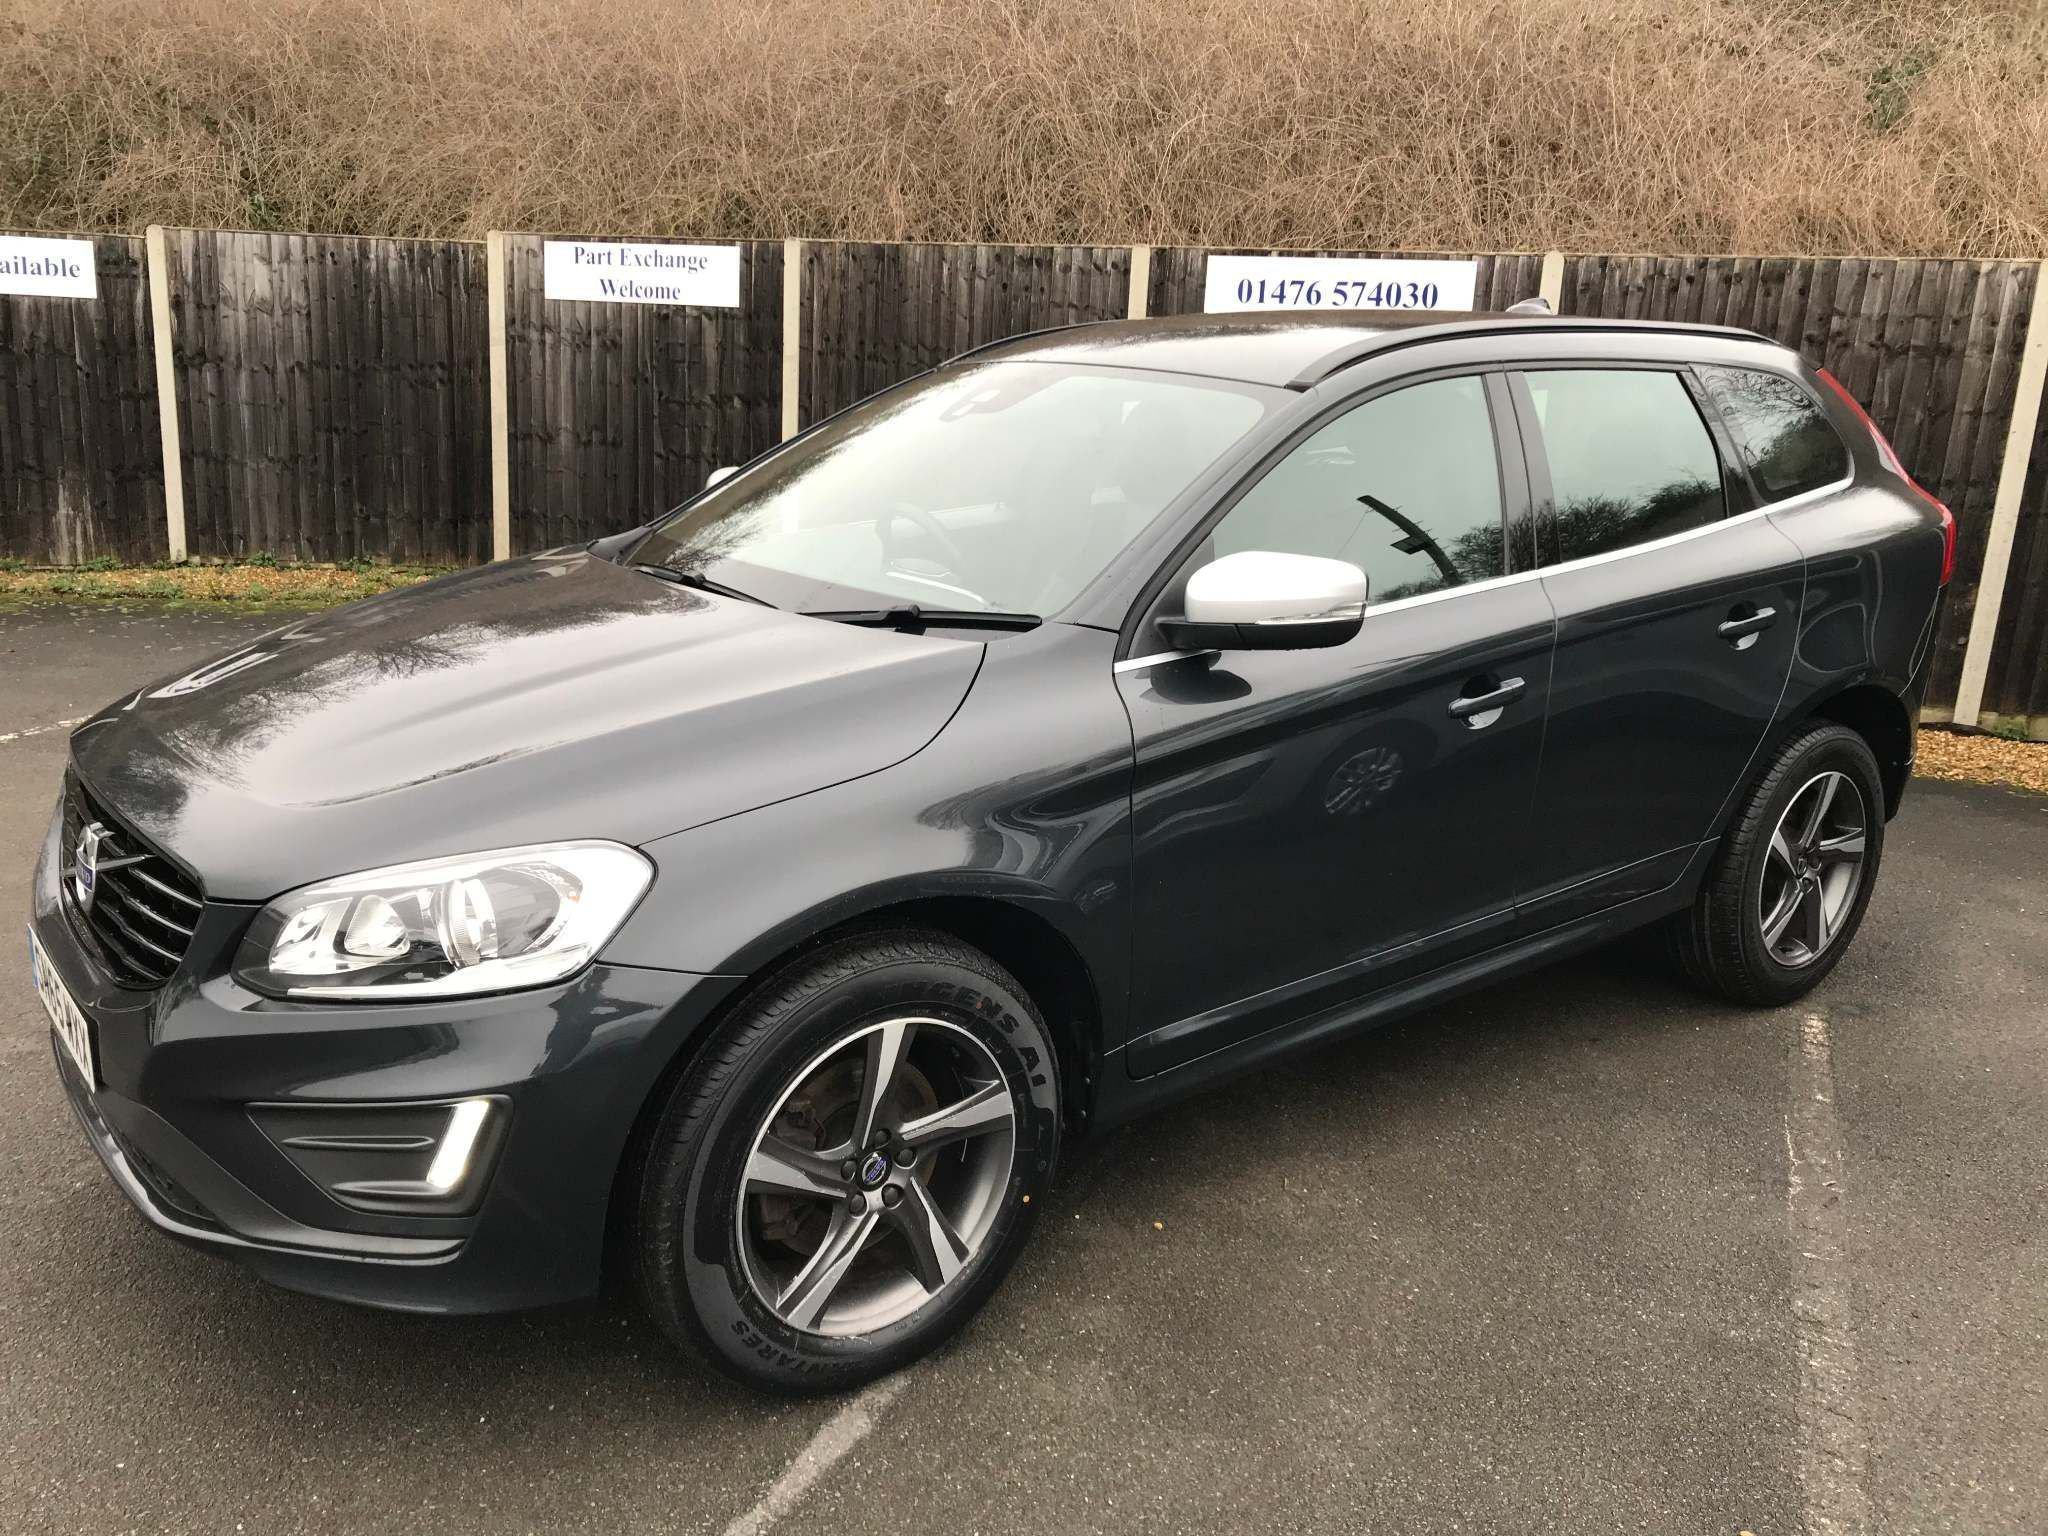car: (52, 253, 1945, 1376)
